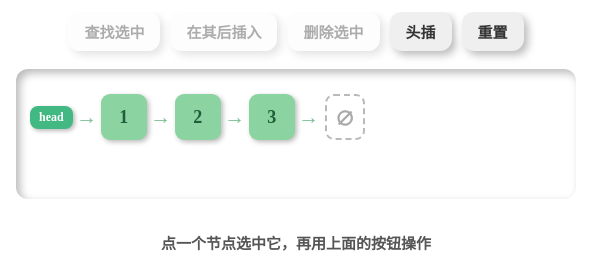
Test case: LinkViz › TC-VIZ-LINKVIZ-02 点节点选中：is-sel + 启用查找/插入/删除
Click the button "2" at [198, 117], box 175,94 -> 221,140
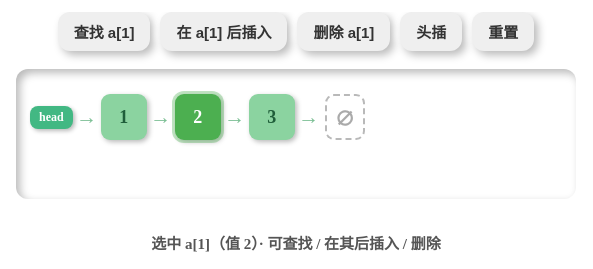
Expected: the button "查找 a[1]" is enabled, 58,12 -> 150,51
Expected: the button "在 a[1] 后插入" is enabled, 160,12 -> 288,51
